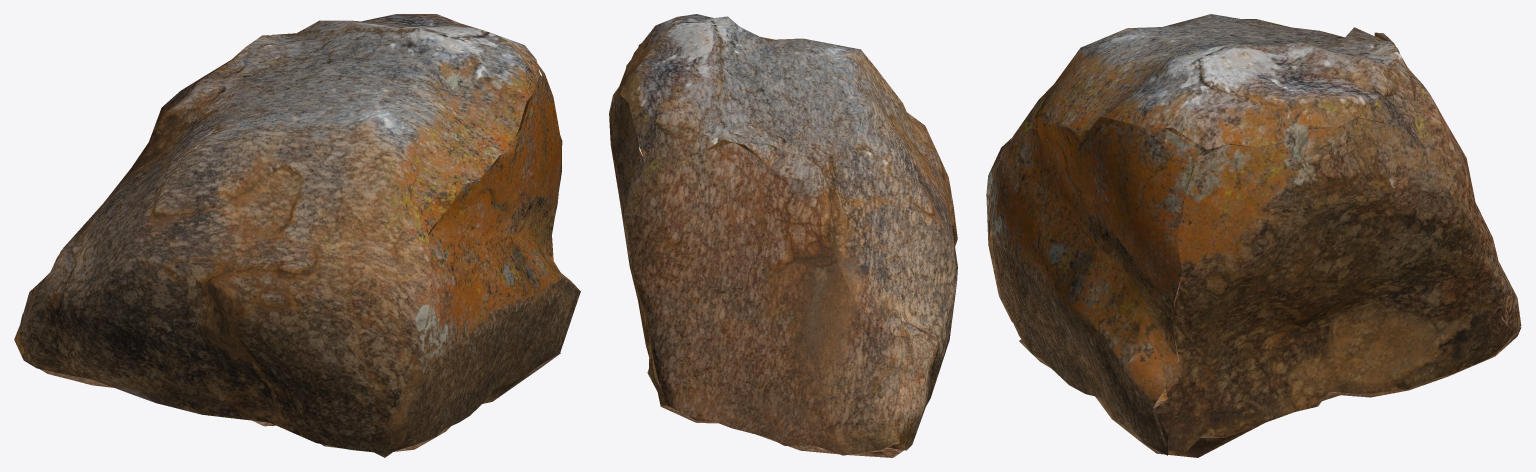
Rendered from rock_3.glb.
3 renders of one model, left to right at view 1: azimuth 30°, elevation 25°; view 2: azimuth 150°, elevation 25°; view 3: azimuth 270°, elevation 25°, orthographic. The views are drawn at different scales.
Visible parts, largest first — view 1: Rock3; view 2: Rock3; view 3: Rock3.
Boxes of the visible parts, x1,y1,x2,y2 form: Rock3: (14, 14, 580, 457); Rock3: (609, 14, 957, 457); Rock3: (986, 14, 1521, 457).
Bounding box in the file's own units: 0.9967 × 0.7451 × 0.9852.
Materials: 1 (1 with a texture image).
